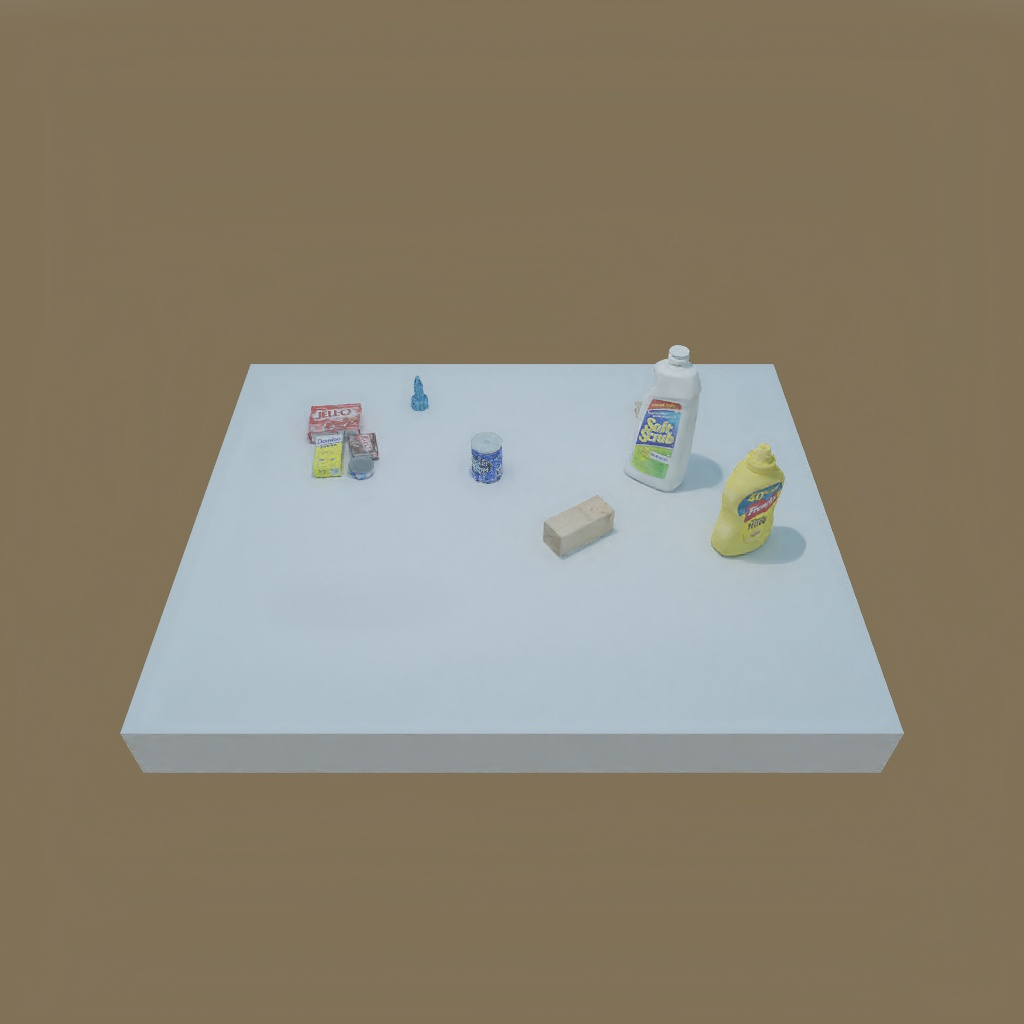gelatin_box: (302, 402, 368, 432)
master_chef_can: (464, 426, 508, 484)
mustard_bottle: (711, 447, 778, 557)
pudding_box: (344, 430, 383, 461)
wood_block: (552, 502, 613, 557)
